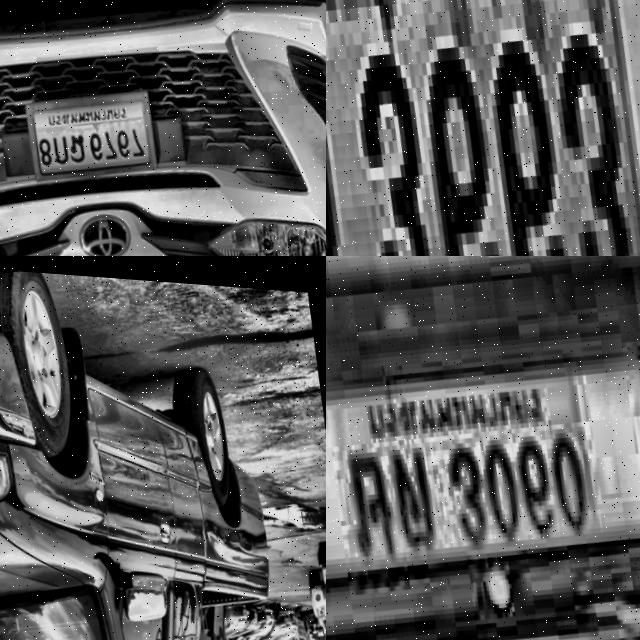license-plate: (326, 256, 640, 640), (326, 0, 640, 256), (23, 76, 163, 188)
